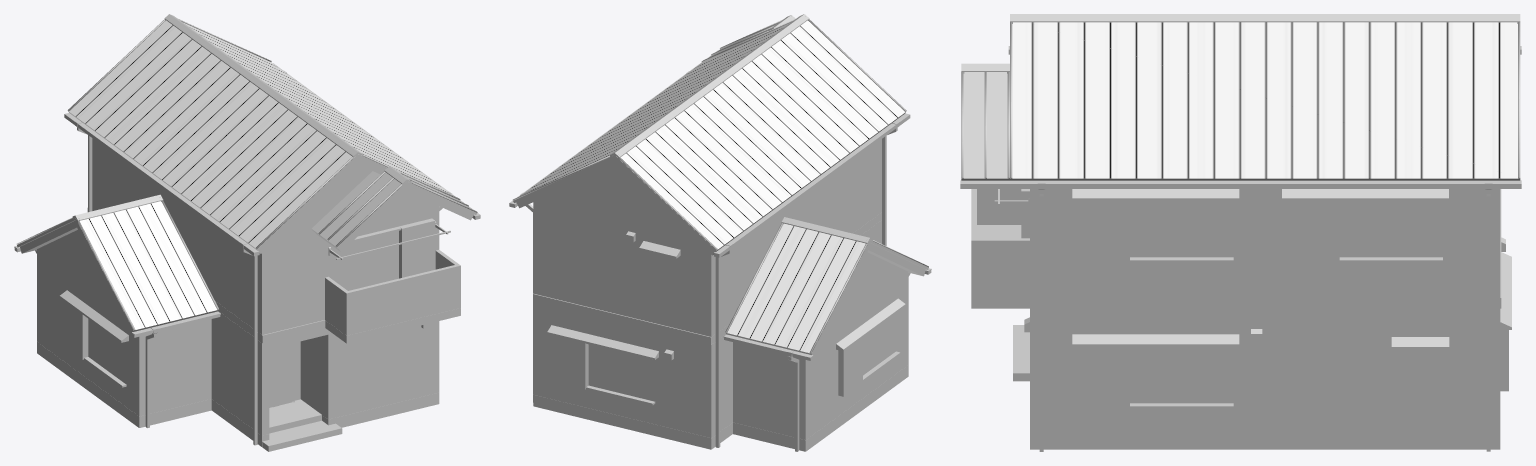
Rendered from House_2021_C.fbx.
The picture shows the model from 3 angles, left to right: view 1: azimuth 30°, elevation 25°; view 2: azimuth 150°, elevation 25°; view 3: azimuth 270°, elevation 25°; orthographic projection. The views are drawn at different scales.
Visible parts, largest first — view 1: House_2021_C; view 2: House_2021_C; view 3: House_2021_C.
Part boxes in pixels (left/top/right/bottom): House_2021_C: left=14, top=14, right=480, bottom=451; House_2021_C: left=509, top=14, right=931, bottom=451; House_2021_C: left=960, top=14, right=1521, bottom=451.
Size of the model in its own units: 757 by 723 by 974.
